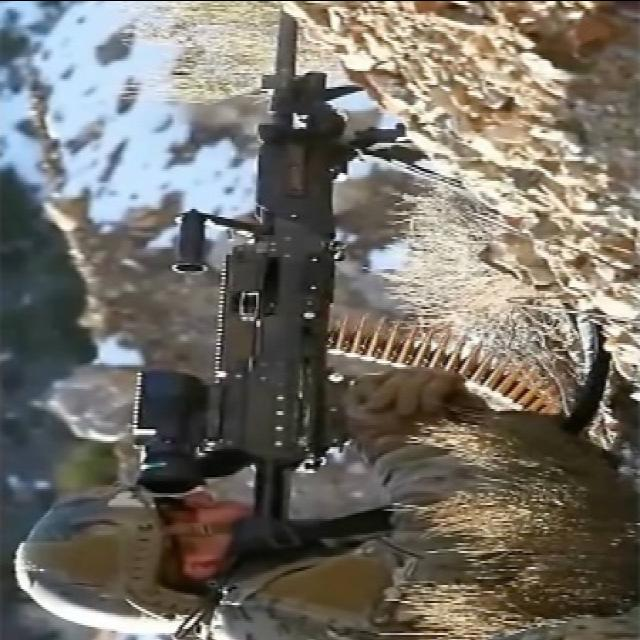rifle: (132, 3, 414, 549)
